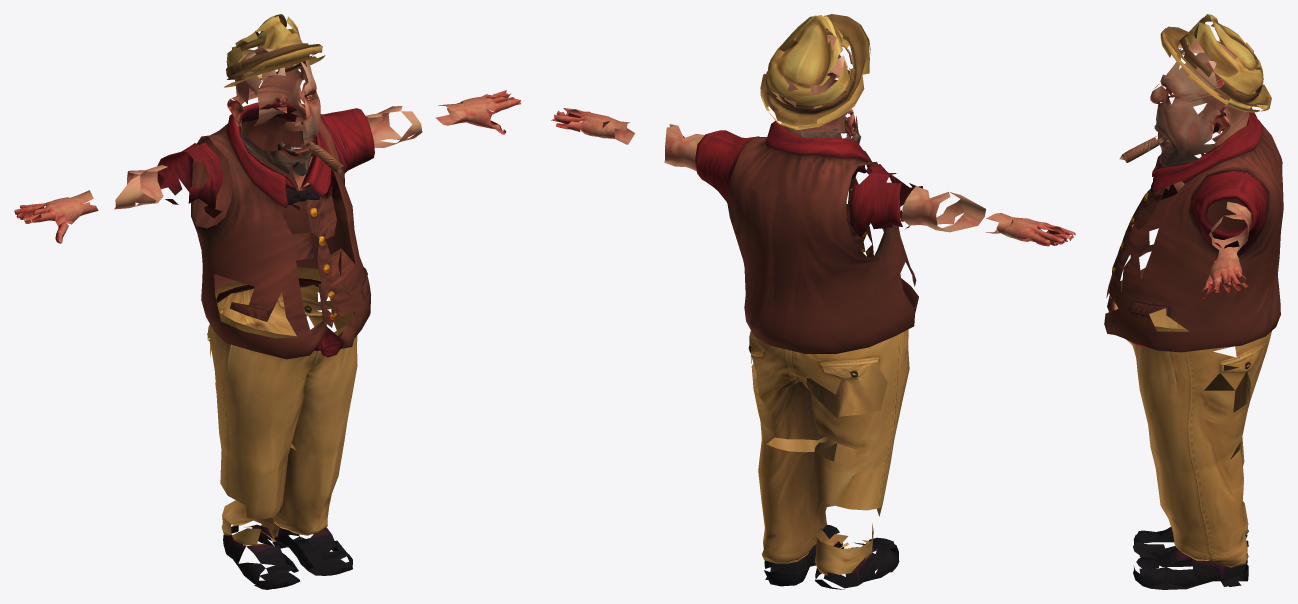
Rendered from Jump_lod2.fbx.
The picture shows the model from 3 angles, left to right: view 1: azimuth 30°, elevation 25°; view 2: azimuth 150°, elevation 25°; view 3: azimuth 270°, elevation 25°; orthographic projection. The views are drawn at different scales.
Parts seen in each view (by area): view 1: Jump_mesh; view 2: Jump_mesh; view 3: Jump_mesh.
Boxes of the visible parts, x1,y1,x2,y2 form: Jump_mesh: (14, 14, 521, 589); Jump_mesh: (551, 14, 1075, 589); Jump_mesh: (1104, 14, 1283, 589).
Bounding box in the file's own units: 1.92 × 1.99 × 0.5878.
4 materials, 4 textured.
